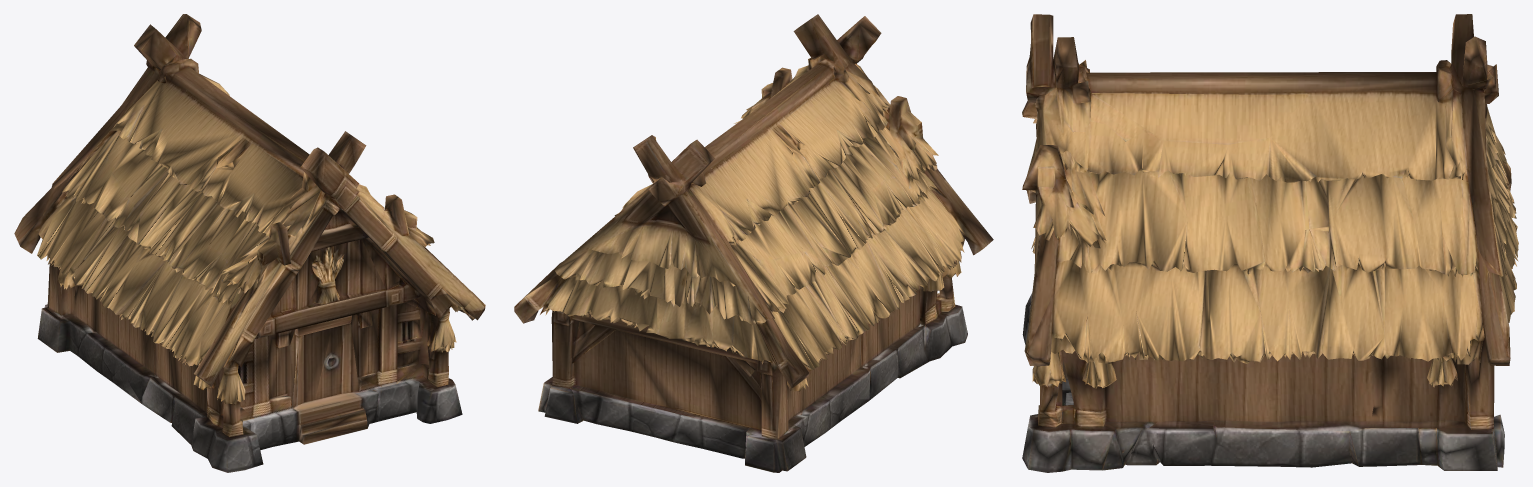
The model's file is farm-hut.glb.
3 renders of one model, left to right at view 1: azimuth 30°, elevation 25°; view 2: azimuth 150°, elevation 25°; view 3: azimuth 270°, elevation 25°, orthographic. The views are drawn at different scales.
Visible parts, largest first — view 1: Mesh_0; view 2: Mesh_0; view 3: Mesh_0.
Boxes of the visible parts, left/top/right/bottom form: Mesh_0: left=14, top=14, right=485, bottom=472; Mesh_0: left=514, top=14, right=993, bottom=472; Mesh_0: left=1022, top=14, right=1518, bottom=472.
Bounding box in the file's own units: 4.08 × 4 × 4.83.
Materials: 1 (1 with a texture image).
